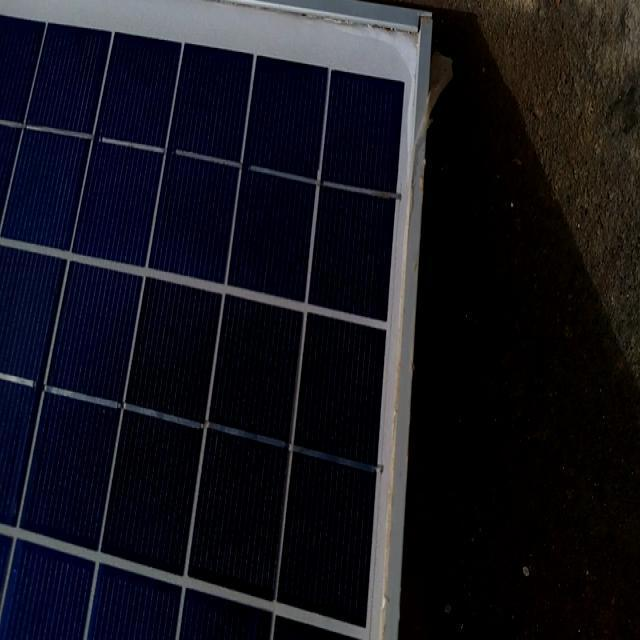Normal Solar Panel: (0, 1, 431, 638)
